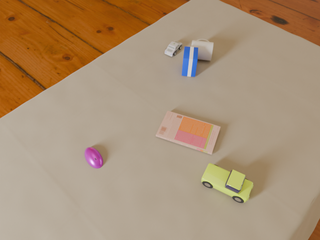book: (156, 111, 220, 154)
box: (182, 46, 199, 77)
cup: (192, 39, 213, 61)
mouse: (85, 147, 103, 168)
toy_car: (201, 163, 253, 203), (165, 41, 182, 57)
